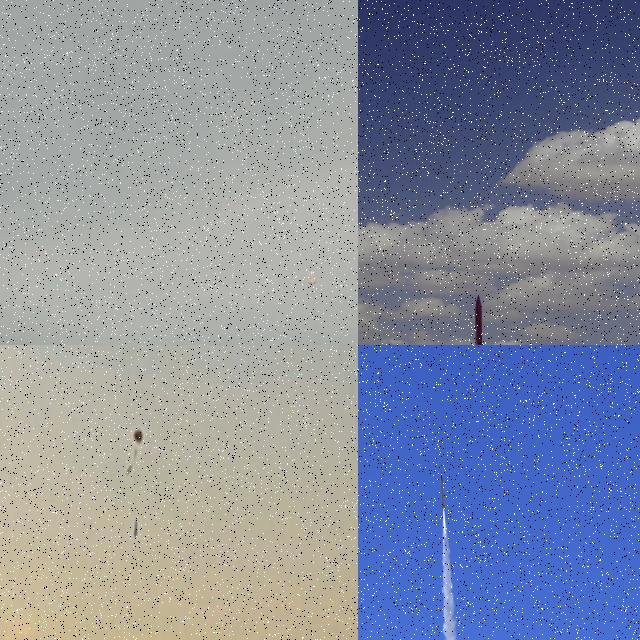Rocket: (467, 293, 487, 345), (441, 471, 445, 509), (308, 269, 316, 285), (133, 520, 138, 536)
